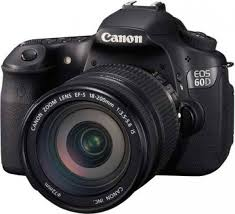camera: (1, 10, 231, 208)
